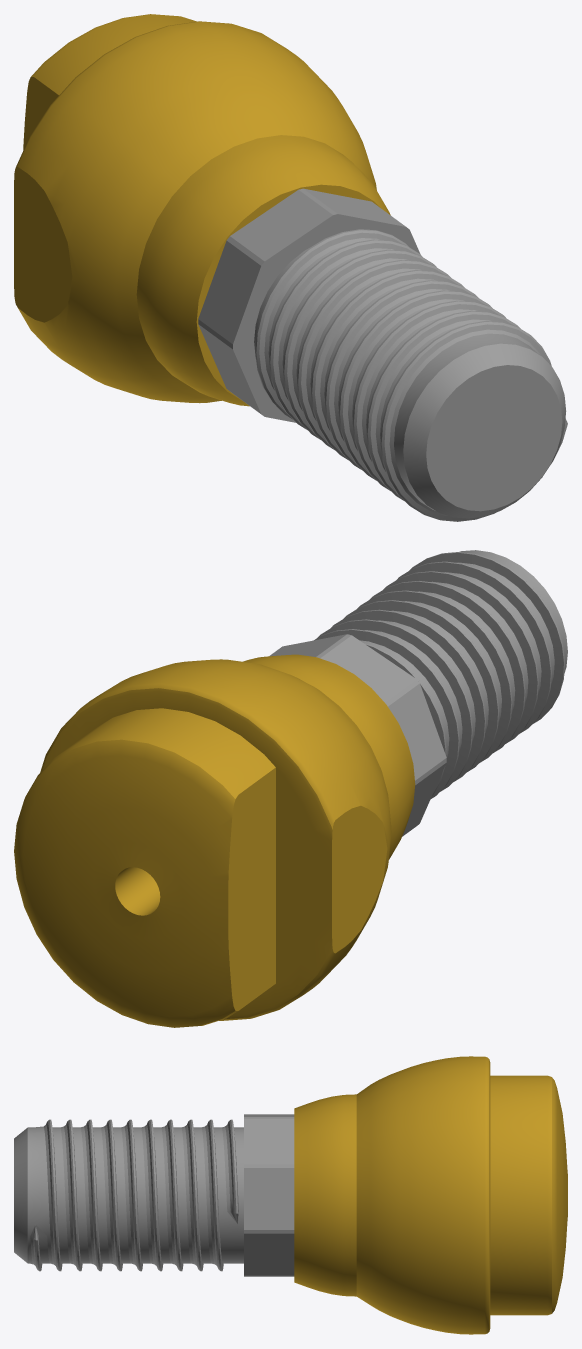
File: HealingAbutment.fbx
The picture shows the model from 3 angles, top to bottom: view 1: azimuth 30°, elevation 25°; view 2: azimuth 150°, elevation 25°; view 3: azimuth 270°, elevation 25°; orthographic projection. The views are drawn at different scales.
Parts seen in each view (by area): view 1: HealingAbutment; view 2: HealingAbutment; view 3: HealingAbutment.
Boxes of the visible parts, x1,y1,x2,y2 form: HealingAbutment: (14,14,567,521); HealingAbutment: (14,550,567,1027); HealingAbutment: (14,1056,567,1334).
Size of the model in its own units: 0.9485 by 0.9928 by 1.98.
